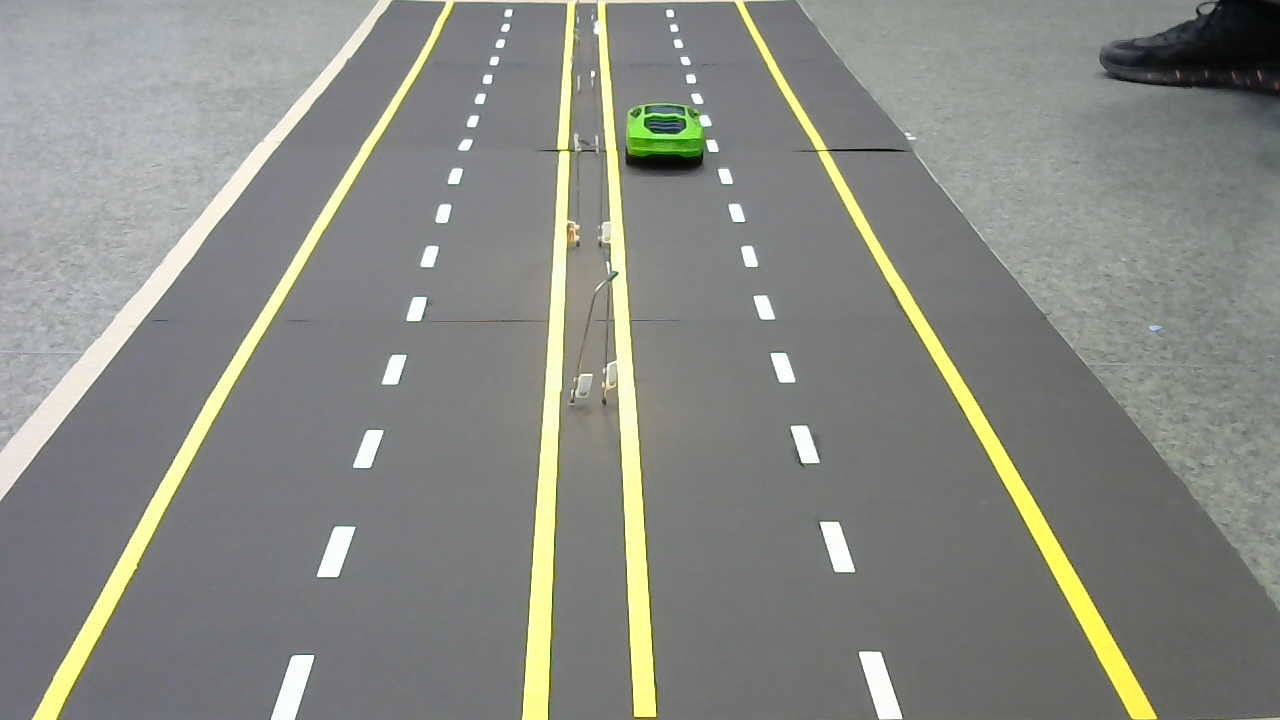back_car: (624, 96, 707, 172)
